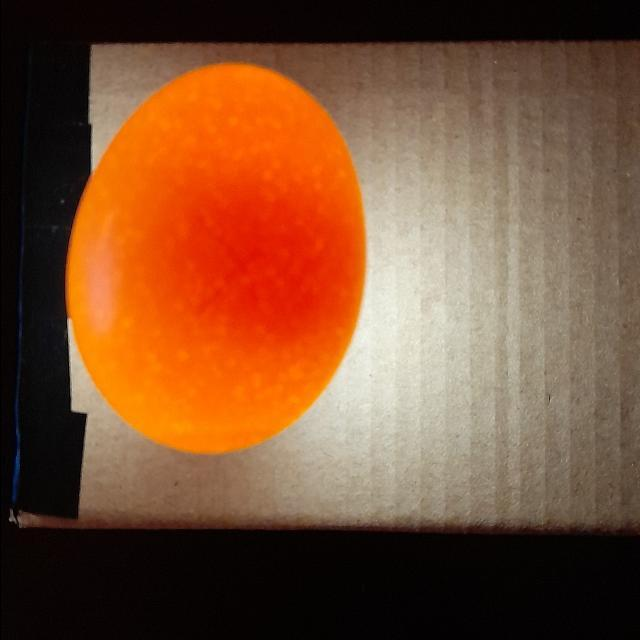Fertile: (77, 59, 373, 464)
